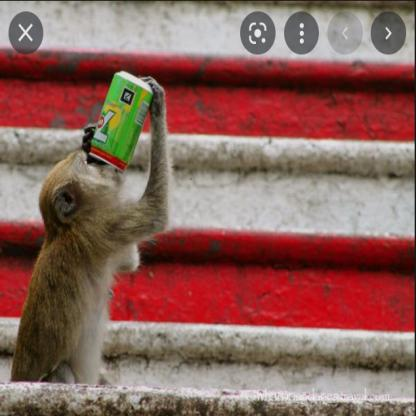monkey: (11, 68, 173, 385)
